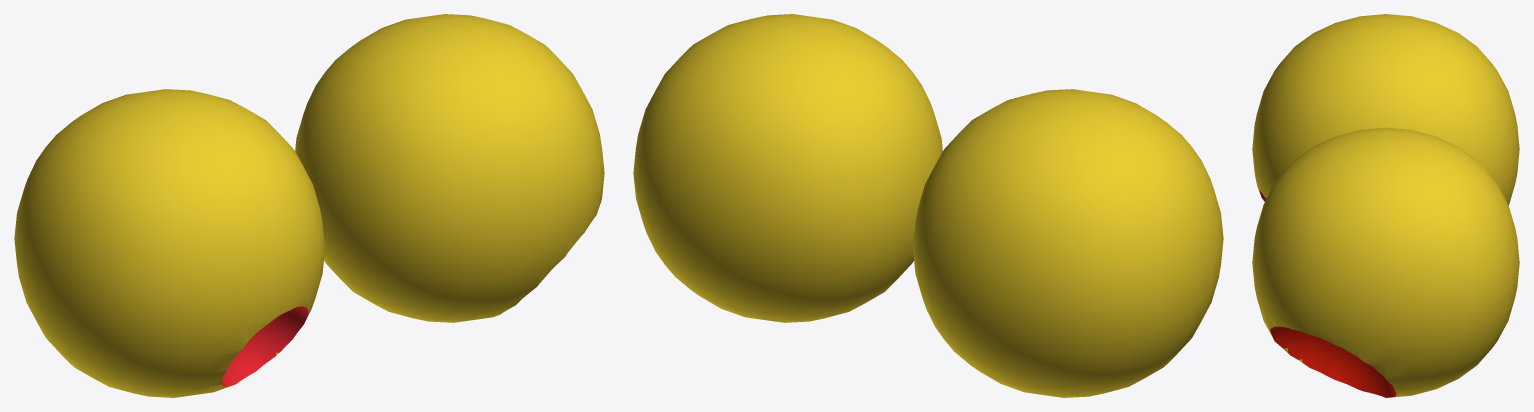
File: starlowpart2.fbx
The picture shows the model from 3 angles, left to right: view 1: azimuth 30°, elevation 25°; view 2: azimuth 150°, elevation 25°; view 3: azimuth 270°, elevation 25°; orthographic projection. The views are drawn at different scales.
Parts seen in each view (by area): view 1: Body1, Body2; view 2: Body1, Body2; view 3: Body2, Body1.
Part boxes in pixels (x1,y1,x2,y2): Body1: (14,89,324,397); Body2: (295,14,604,322); Body1: (913,89,1223,397); Body2: (633,14,942,322); Body2: (1252,127,1519,397); Body1: (1252,14,1519,205).
Size of the model in its own units: 290 by 144 by 141.
